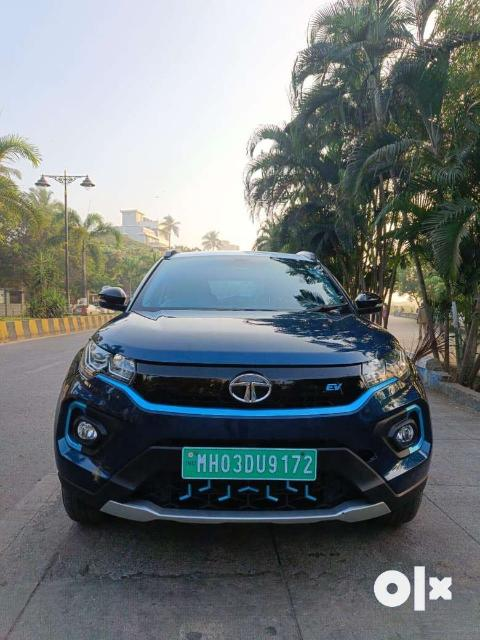Indian_Number_Plate: (184, 447, 316, 479)
